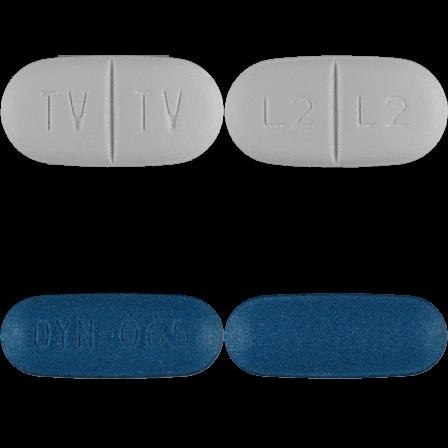76519-1005: (0, 0, 224, 224)
